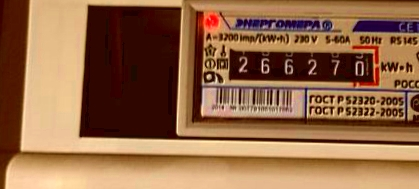0: (352, 57, 364, 78)
2: (235, 53, 250, 74), (305, 56, 318, 77)
6: (258, 55, 271, 76), (282, 56, 295, 75)
7: (328, 57, 341, 76)
screen: (215, 36, 389, 95)
